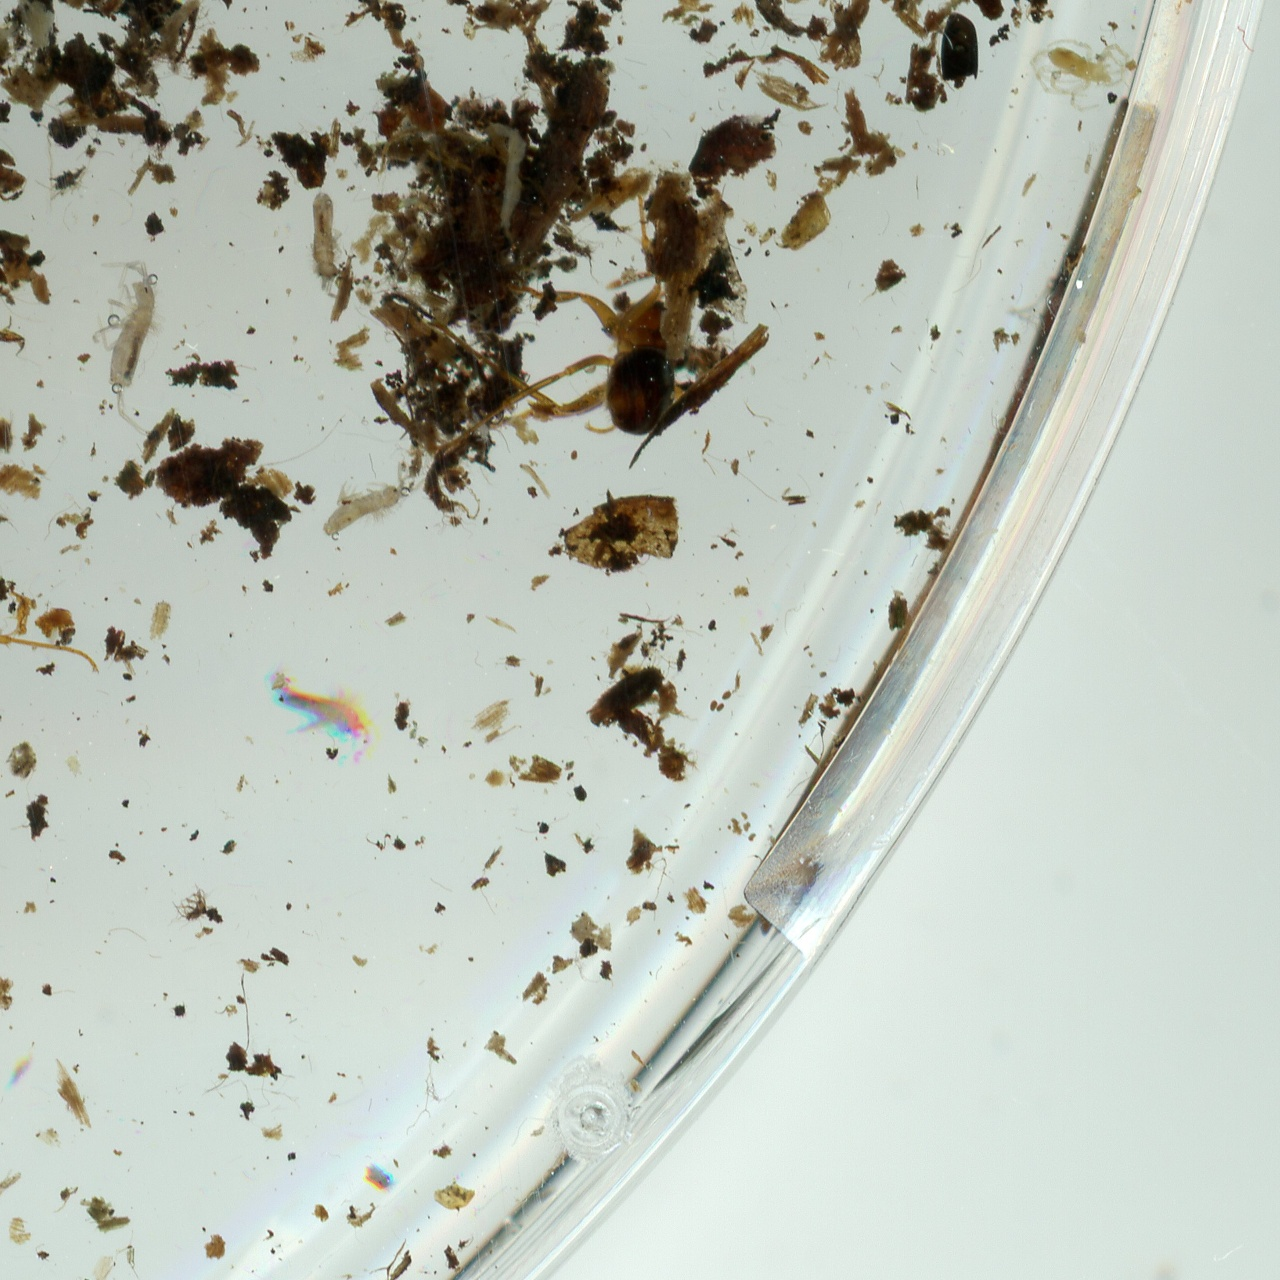arthropod: (0, 493, 125, 925), (539, 277, 698, 442), (69, 250, 182, 440), (256, 651, 397, 776), (305, 448, 433, 542), (1030, 36, 1128, 111), (147, 0, 203, 76), (310, 189, 341, 297), (470, 410, 492, 446)
